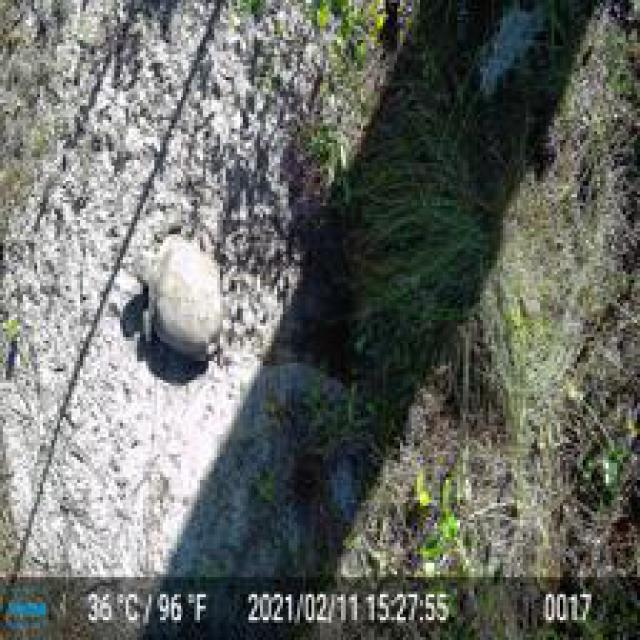tortoise: (128, 228, 225, 368)
